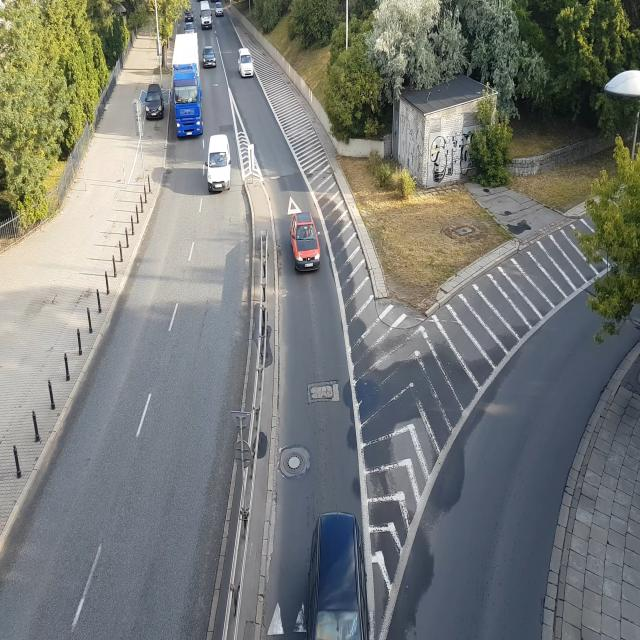car: (308, 508, 368, 640), (288, 206, 323, 276), (204, 132, 234, 192), (143, 84, 165, 122), (235, 44, 256, 82), (198, 1, 216, 31), (202, 41, 218, 71), (214, 0, 226, 20), (182, 22, 195, 36), (184, 9, 194, 22)
truck: (170, 33, 203, 141)
